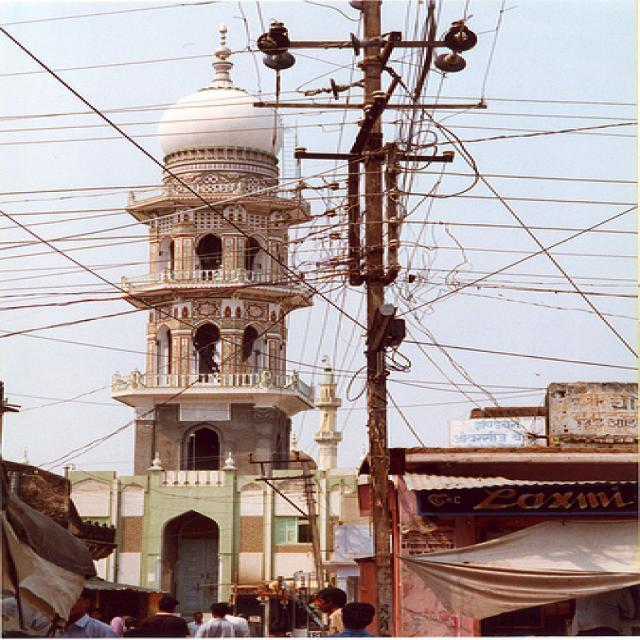crossarm: (258, 31, 470, 53), (256, 99, 488, 113), (295, 148, 453, 163)
pole: (362, 0, 396, 636)
wire: (4, 26, 371, 331), (398, 73, 640, 368), (0, 156, 362, 251), (392, 203, 638, 318), (0, 271, 351, 341), (7, 228, 347, 284), (2, 106, 639, 133), (1, 123, 637, 148), (4, 96, 640, 121), (0, 170, 356, 197), (0, 194, 351, 220), (394, 338, 640, 371), (0, 47, 261, 77), (418, 117, 637, 149), (390, 282, 640, 300), (403, 189, 640, 207), (399, 220, 640, 236), (401, 169, 640, 185)
